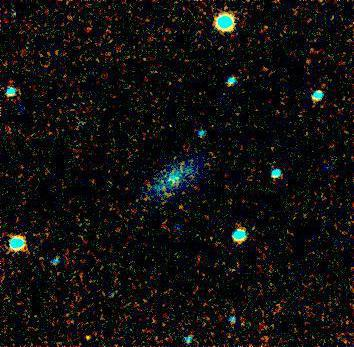star: (74, 323, 104, 347)
